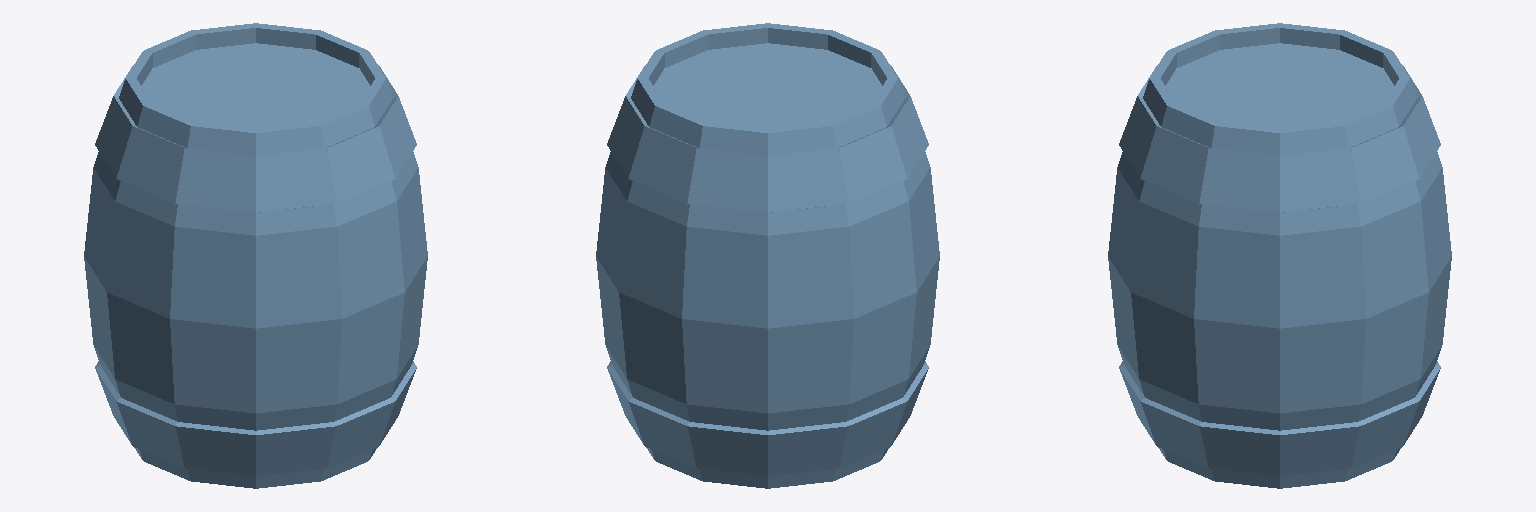
The model's file is Barril.obj.
The picture shows the model from 3 angles: view 1: azimuth 30°, elevation 25°; view 2: azimuth 150°, elevation 25°; view 3: azimuth 270°, elevation 25°; orthographic projection.
Visible parts, largest first — view 1: Barril_Deco; view 2: Barril_Deco; view 3: Barril_Deco.
Boxes of the visible parts, box(x1,y1,x2,y2) form: Barril_Deco: box(84, 23, 427, 488); Barril_Deco: box(596, 23, 939, 488); Barril_Deco: box(1108, 23, 1451, 488).
Bounding box in the file's own units: 24.99 × 28.49 × 24.99.